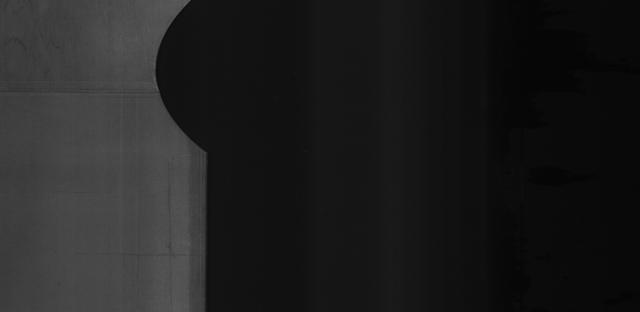welding_line: (5, 78, 167, 108)
